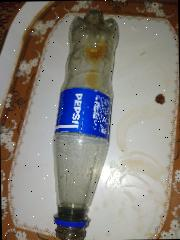general: (0, 0, 180, 240)
plastic: (50, 7, 122, 236)
